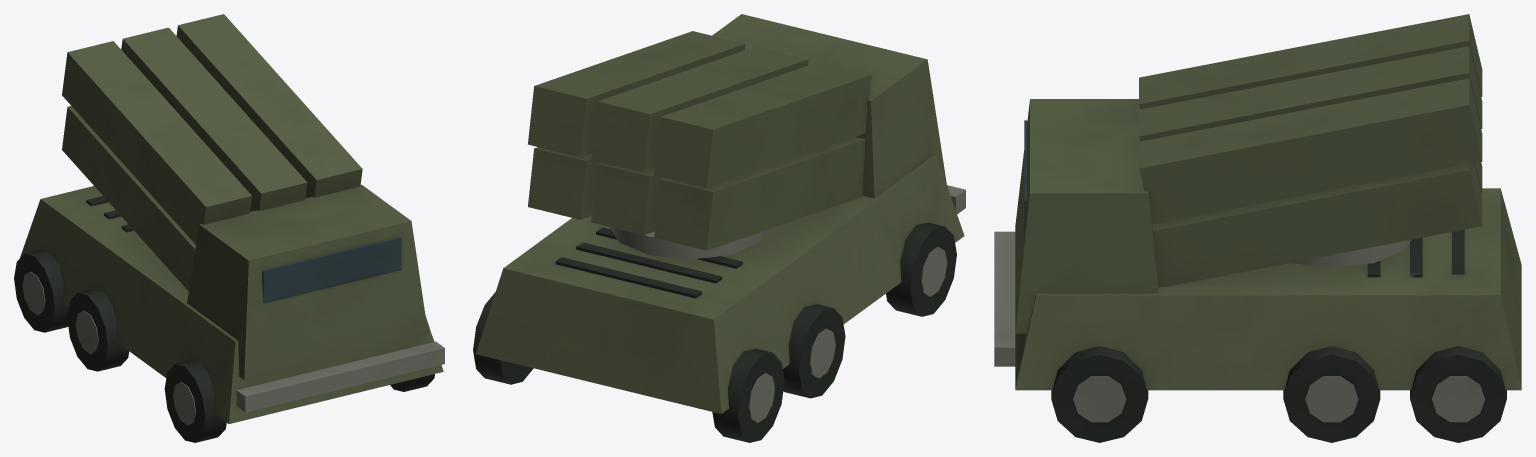
The model's file is military-sam.fbx.
3 views of the same model, side by side, from view 1: azimuth 30°, elevation 25°; view 2: azimuth 150°, elevation 25°; view 3: azimuth 270°, elevation 25° (orthographic). The views are drawn at different scales.
Visible parts, largest first — view 1: military-sam; view 2: military-sam; view 3: military-sam.
Boxes of the visible parts, left/top/right/bottom form: military-sam: left=14, top=14, right=444, bottom=442; military-sam: left=473, top=14, right=965, bottom=442; military-sam: left=994, top=14, right=1521, bottom=442.
Bounding box in the file's own units: 15.2 × 16.53 × 25.
Materials: 1 (1 with a texture image).
